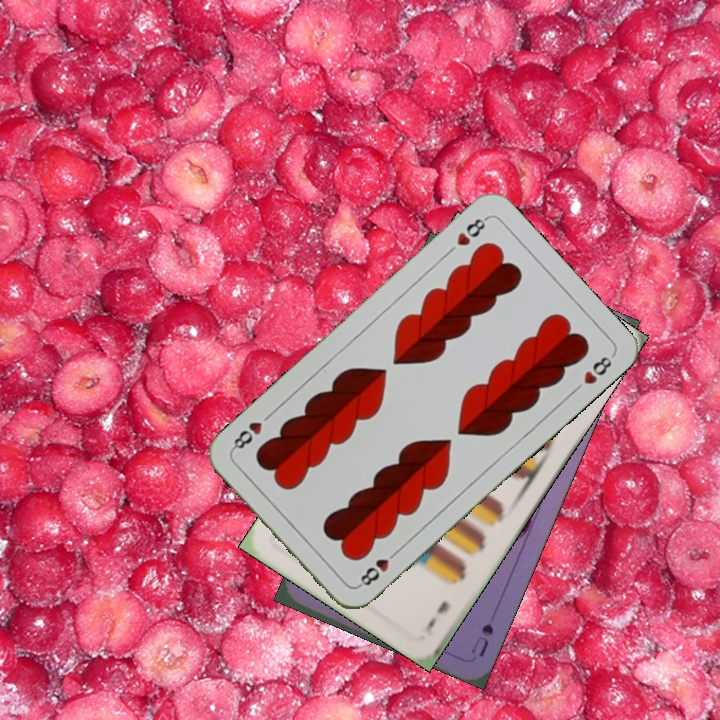E7: (421, 596, 452, 639)
H8: (354, 545, 402, 590), (452, 212, 491, 249)
SU: (467, 619, 497, 660)
